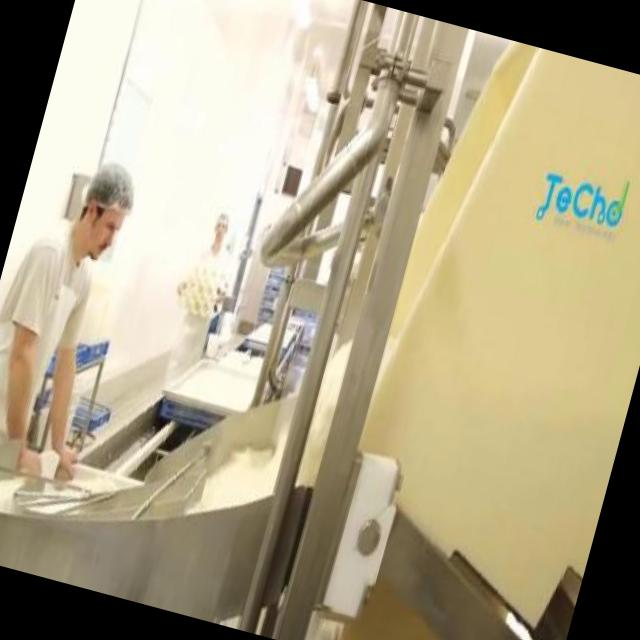hairnet: (81, 157, 146, 218)
